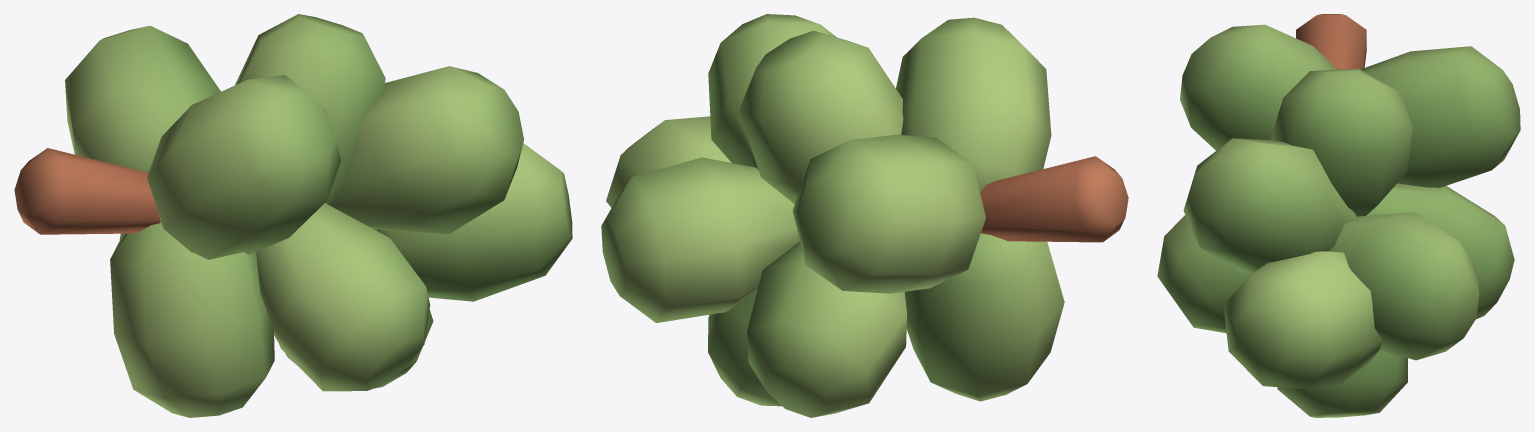
3 views of the same model, side by side, from view 1: azimuth 30°, elevation 25°; view 2: azimuth 150°, elevation 25°; view 3: azimuth 270°, elevation 25° (orthographic). The views are drawn at different scales.
Visible parts, largest first — view 1: grapes; view 2: grapes; view 3: grapes.
Part boxes in pixels (x1,y1,x2,y2): grapes: (14,14,572,417); grapes: (601,14,1128,417); grapes: (1157,14,1520,417).
Size of the model in its own units: 42.75 by 29.14 by 29.25.
1 material, 1 textured.
